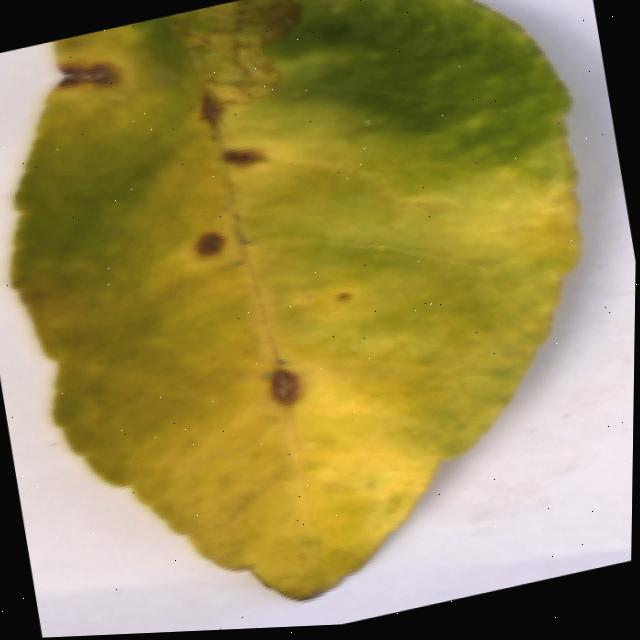canker: (15, 0, 579, 595), (64, 61, 117, 82), (202, 86, 226, 129), (273, 367, 301, 402), (225, 147, 265, 158), (199, 232, 221, 250)
